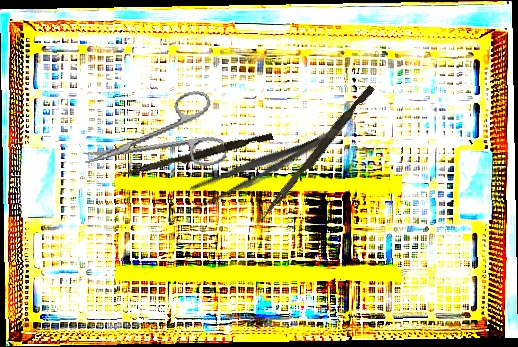Dressing Forceps: (178, 122, 340, 217)
Iris Scissors: (75, 87, 228, 193)
Pusher: (260, 81, 375, 225), (122, 128, 274, 183)
